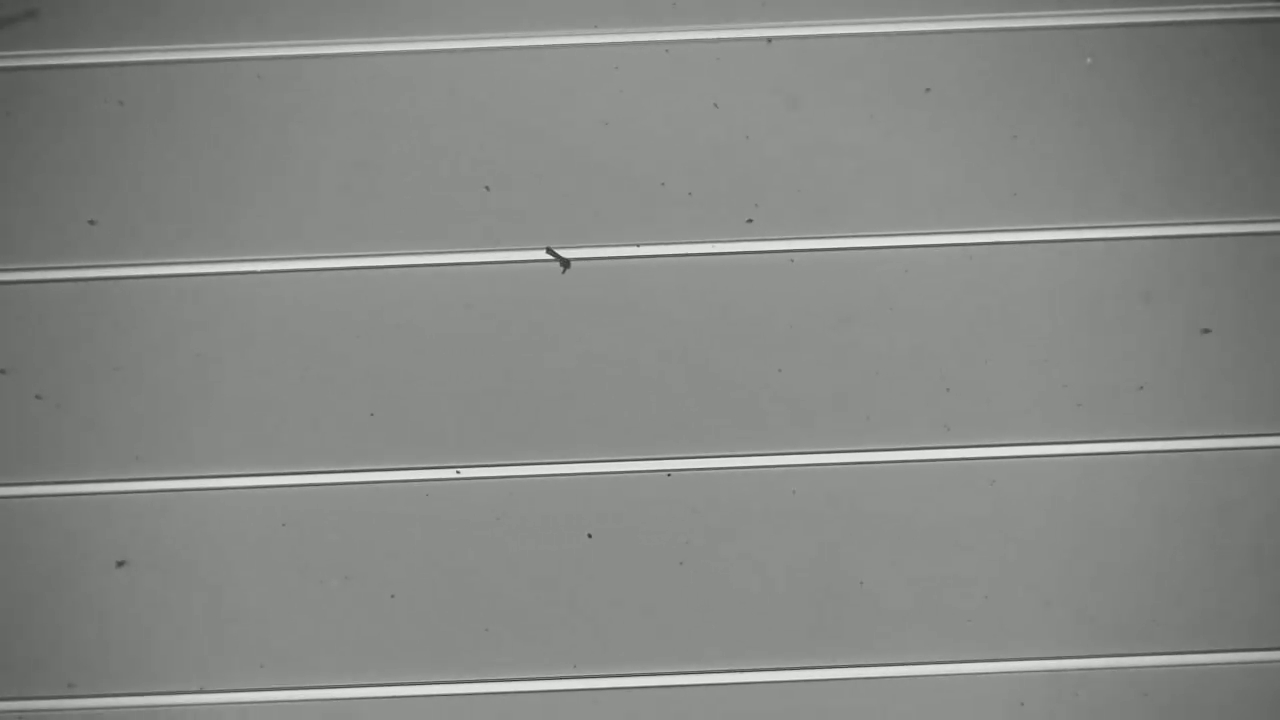stains_enbedded: (533, 230, 590, 288)
